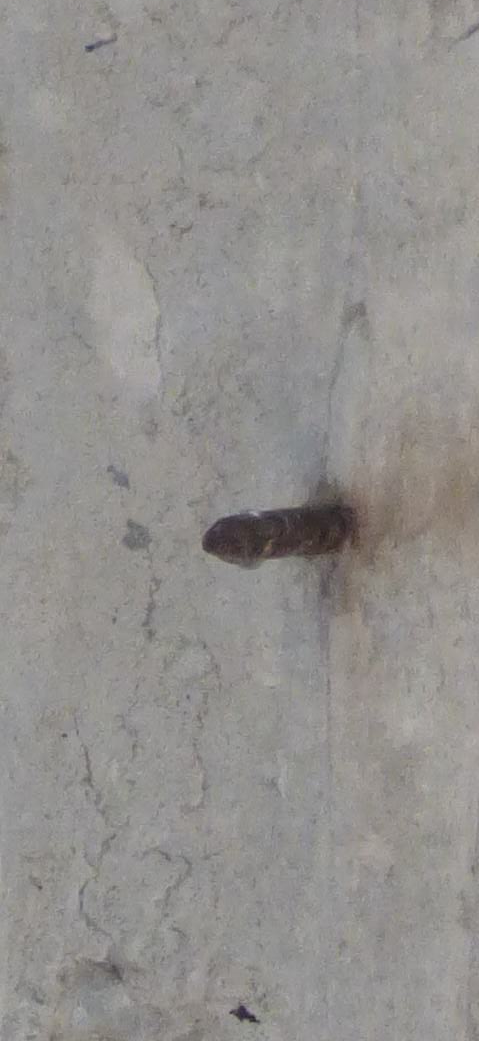Exposed reinforcement: (201, 503, 348, 560)
